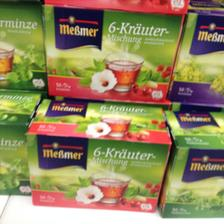Tee: (24, 95, 172, 213), (41, 4, 184, 102), (160, 110, 224, 218)
